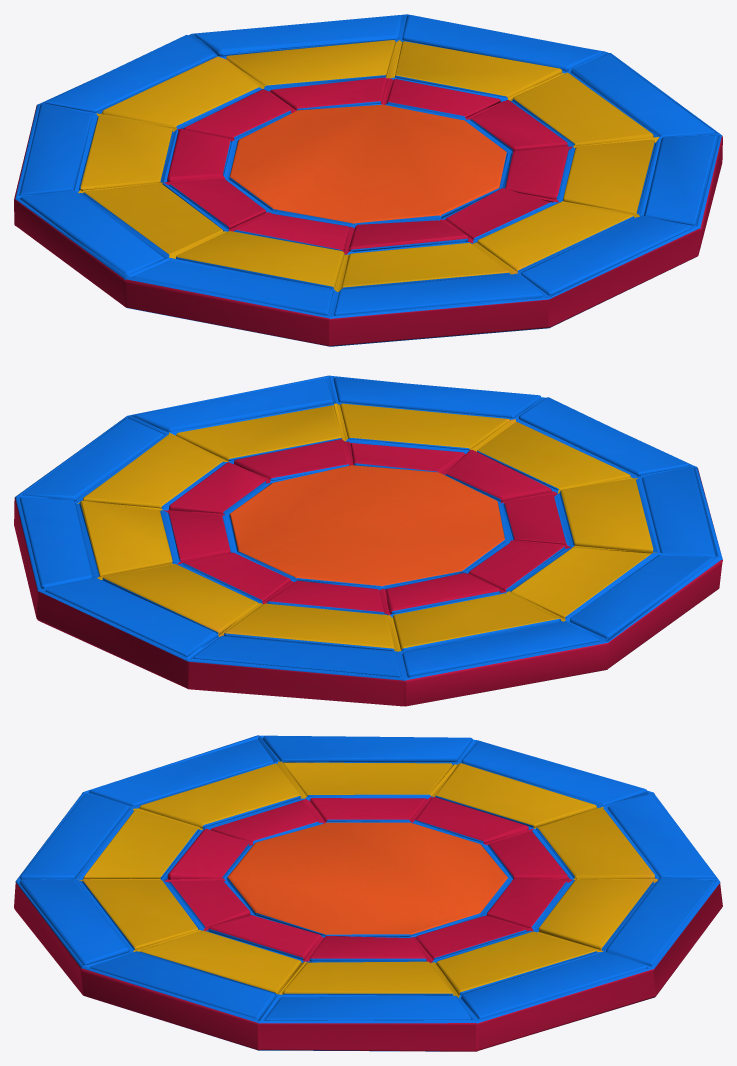
Rendered from CannonPedestal.fbx.
3 views of the same model, one above another, from view 1: azimuth 30°, elevation 25°; view 2: azimuth 150°, elevation 25°; view 3: azimuth 270°, elevation 25° (orthographic). The views are drawn at different scales.
Visible parts, largest first — view 1: Cylinder.001; view 2: Cylinder.001; view 3: Cylinder.001.
Boxes of the visible parts, x1=… form: Cylinder.001: x1=14, y1=14, x2=722, y2=346; Cylinder.001: x1=14, y1=375, x2=722, y2=706; Cylinder.001: x1=14, y1=735, x2=722, y2=1051.
Bounding box in the file's own units: 5.76 × 0.3372 × 6.03.
1 material, 1 textured.
